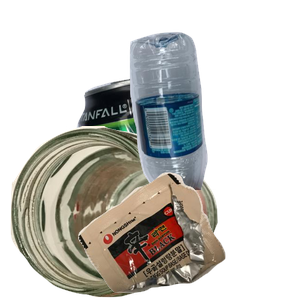glass: (10, 126, 220, 300)
metal: (74, 74, 257, 254)
plastic: (127, 29, 300, 209)
trash: (76, 170, 300, 300)
